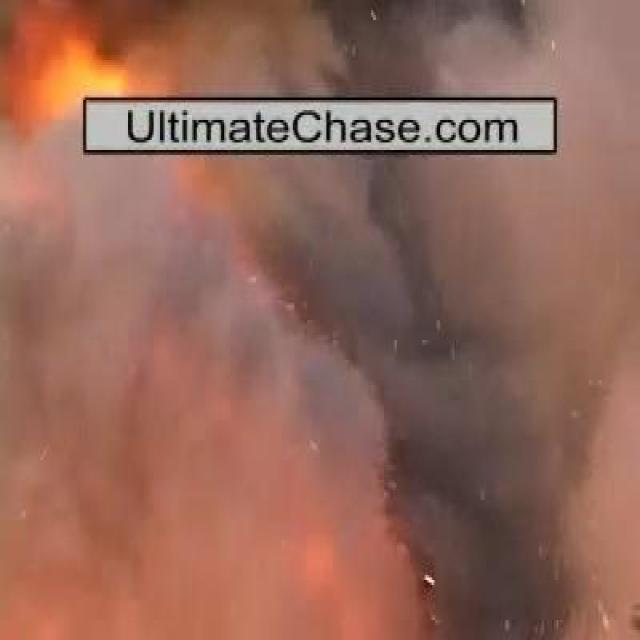Smoke: (33, 166, 564, 604)
